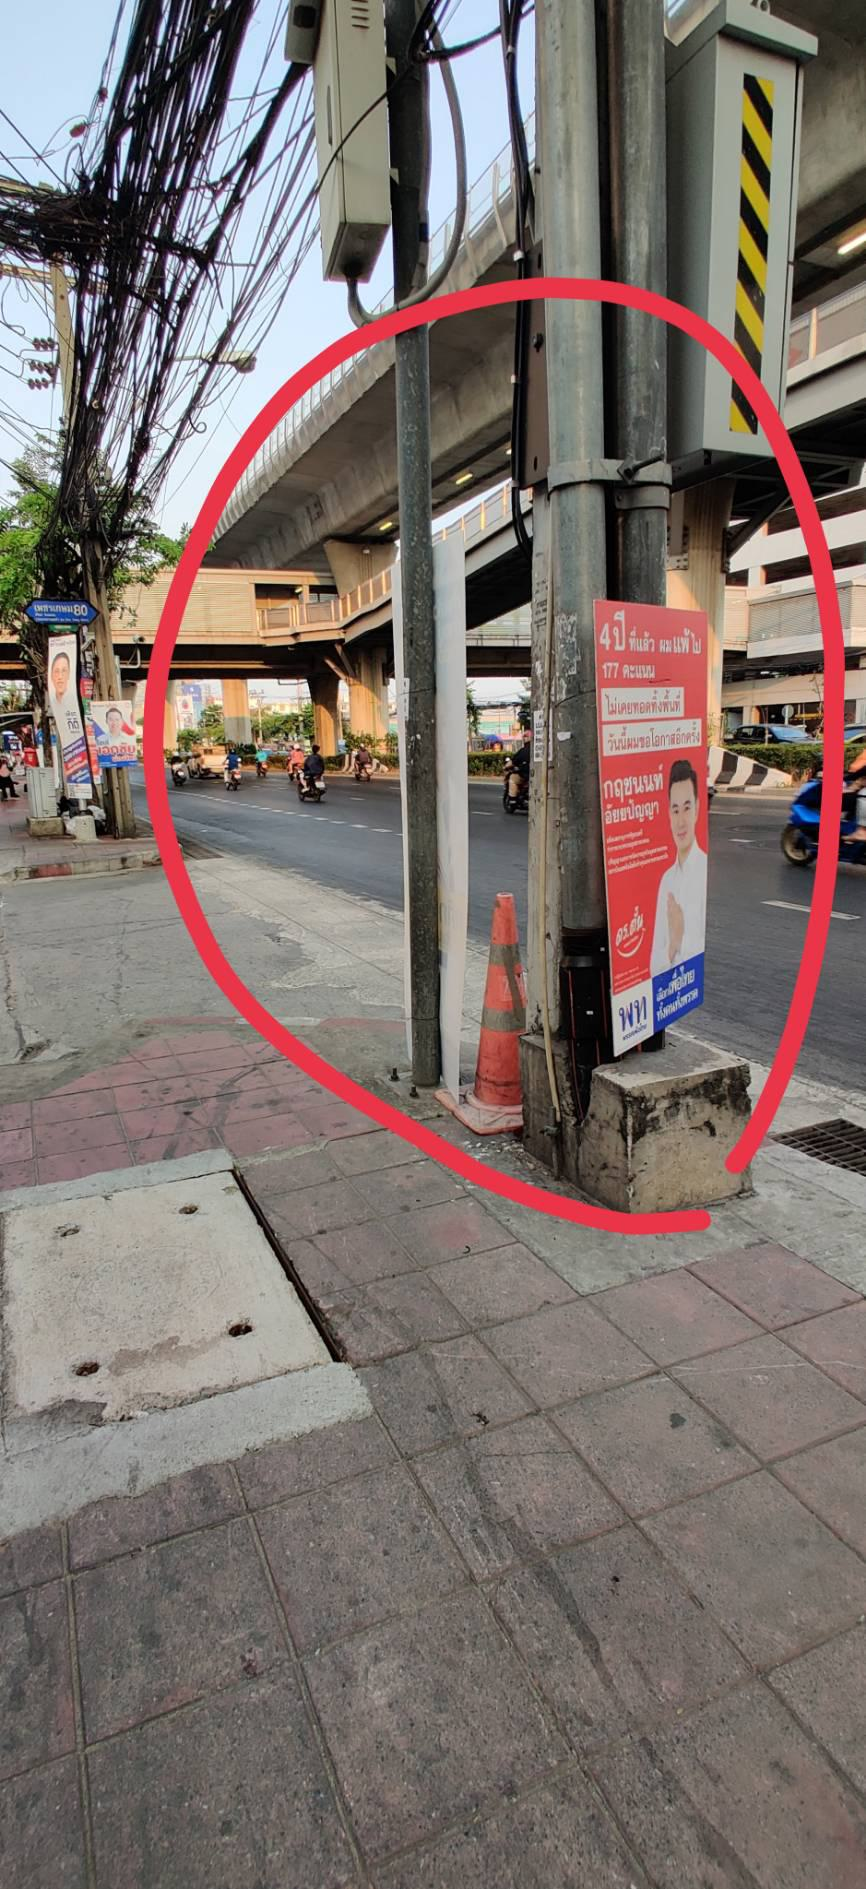Banner: (596, 604, 735, 1067)
